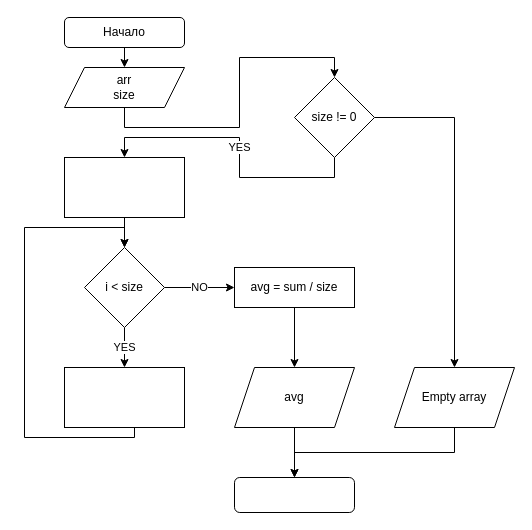
The diagram is 532 pixels wide and 530 high, and some of its shapes have lost their labels. The shapes that lost their labels are listed below. From the top down, each one's centre as x and y in pixels, then its label:
(x=124, y=187): i = 0 sum = 0 avg = 0
(x=124, y=397): i = i + 1 sum = sum + arr[i]
(x=294, y=494): Конец
